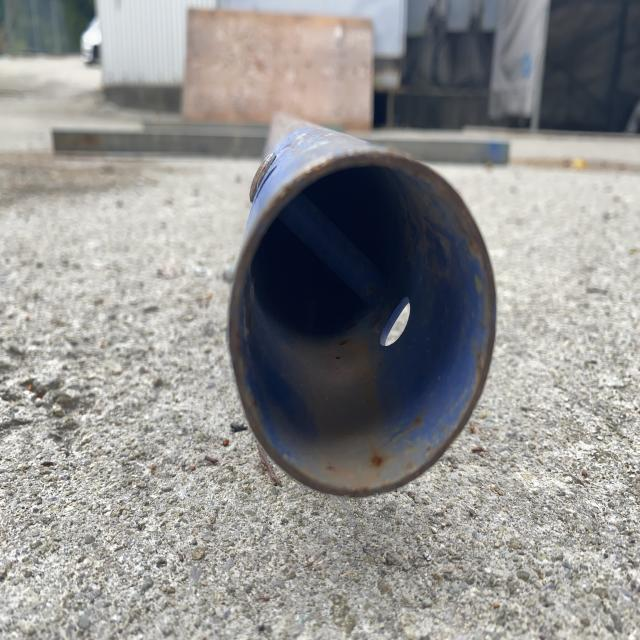pipe: (226, 113, 499, 499)
